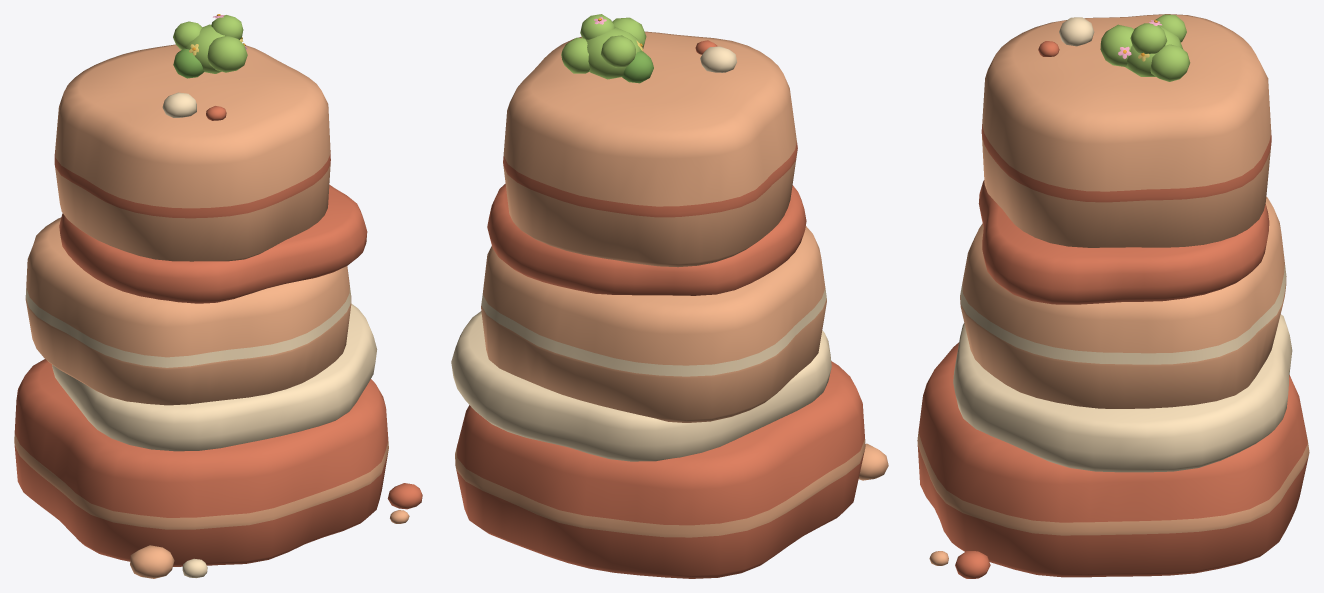
Rendered from prop_mesa.glb.
3 renders of one model, left to right at view 1: azimuth 30°, elevation 25°; view 2: azimuth 150°, elevation 25°; view 3: azimuth 270°, elevation 25°, orthographic. The views are drawn at different scales.
Parts seen in each view (by area): view 1: prop_mesa; view 2: prop_mesa; view 3: prop_mesa.
Boxes of the visible parts, x1=… form: prop_mesa: x1=14, y1=14, x2=422, y2=578; prop_mesa: x1=451, y1=14, x2=888, y2=578; prop_mesa: x1=917, y1=14, x2=1309, y2=578.
Size of the model in its own units: 4.01 by 5.55 by 3.95.
